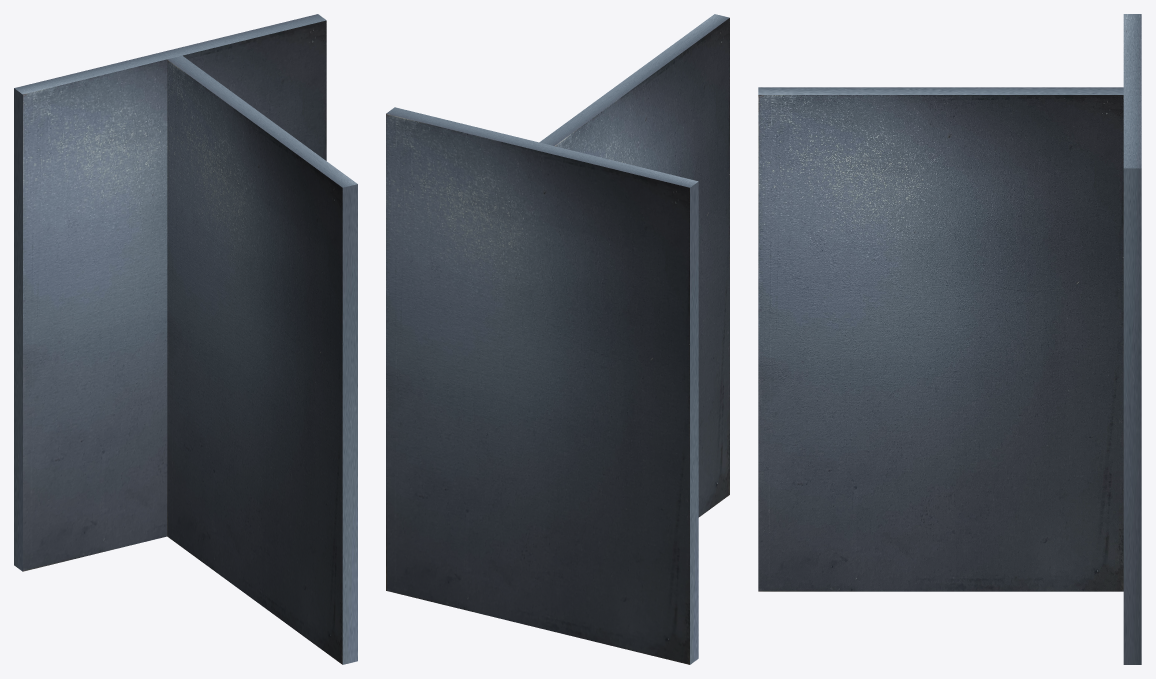
The model's file is specimen.obj.
The picture shows the model from 3 angles, left to right: view 1: azimuth 30°, elevation 25°; view 2: azimuth 150°, elevation 25°; view 3: azimuth 270°, elevation 25°; orthographic projection. The views are drawn at different scales.
Visible parts, largest first — view 1: pillar, plate; view 2: plate, pillar; view 3: pillar, plate.
Boxes of the visible parts, left/top/right/bottom form: pillar: left=167, top=55, right=357, bottom=664; plate: left=14, top=14, right=326, bottom=571; plate: left=386, top=107, right=698, bottom=664; pillar: left=539, top=14, right=729, bottom=517; pillar: left=758, top=87, right=1123, bottom=591; plate: left=1123, top=14, right=1141, bottom=664.
Size of the model in its own units: 0.1 by 0.15 by 0.105.
1 material, 1 textured.
